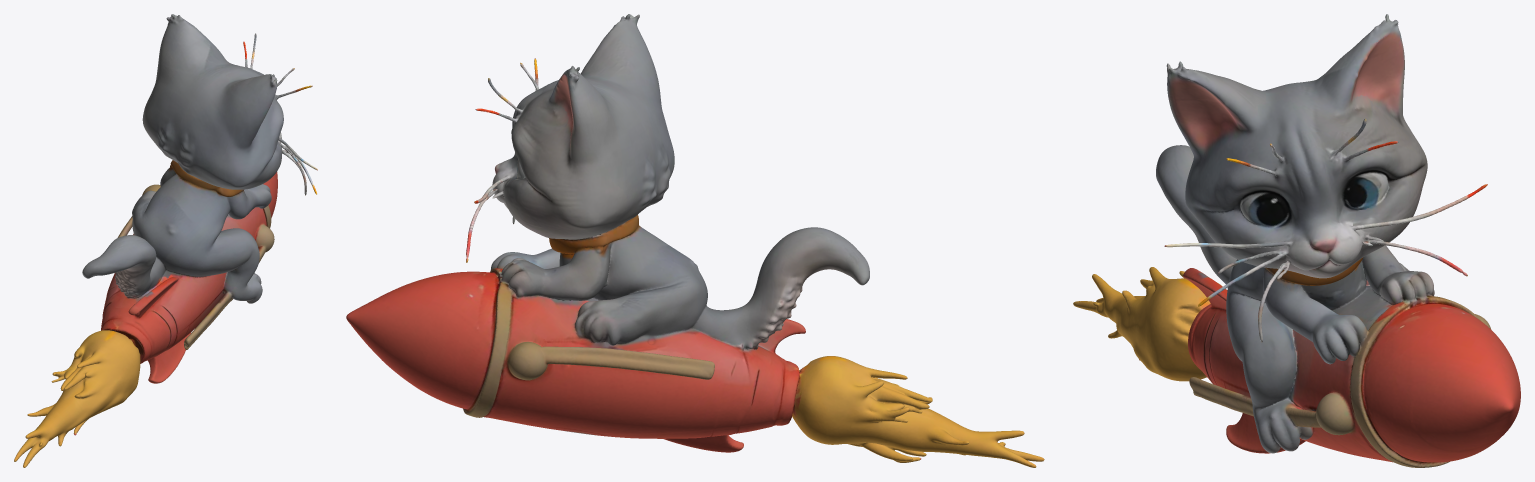
The model's file is rocket_cat.glb.
3 renders of one model, left to right at view 1: azimuth 30°, elevation 25°; view 2: azimuth 150°, elevation 25°; view 3: azimuth 270°, elevation 25°, orthographic. The views are drawn at different scales.
Visible parts, largest first — view 1: tripo_node_8a442535-c099-4c04-979b-ab6c11e55749; view 2: tripo_node_8a442535-c099-4c04-979b-ab6c11e55749; view 3: tripo_node_8a442535-c099-4c04-979b-ab6c11e55749.
Part boxes in pixels (box(x1,y1,x2,y2)): tripo_node_8a442535-c099-4c04-979b-ab6c11e55749: box(14, 14, 317, 467); tripo_node_8a442535-c099-4c04-979b-ab6c11e55749: box(346, 14, 1044, 467); tripo_node_8a442535-c099-4c04-979b-ab6c11e55749: box(1073, 14, 1520, 467).
Size of the model in its own units: 1 by 0.7739 by 0.6567.
Materials: 1 (1 with a texture image).
